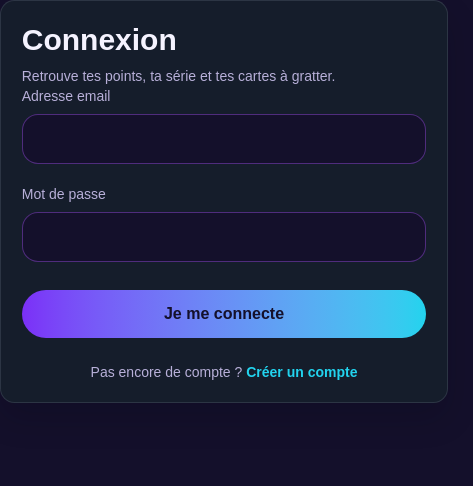
Test case: mode connexion › affiche le message d'erreur du backend en cas d'échec
The image size is (473, 486).
Type "lyra@example.com" into the field labelled "Adresse email". click: coordinates (224, 139)
box: [22,114,426,164]
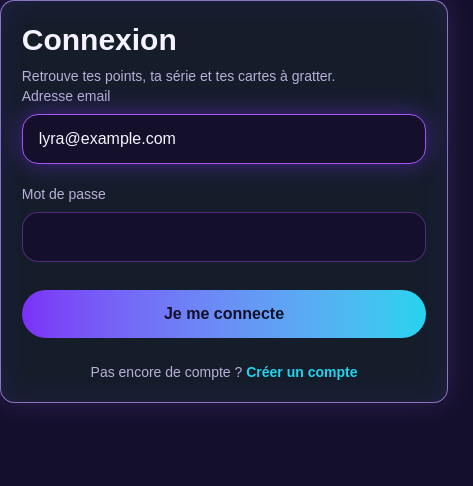
Type "mauvais" into the password field labelled "Mot de passe". click: coordinates (224, 237)
box: [22,212,426,262]
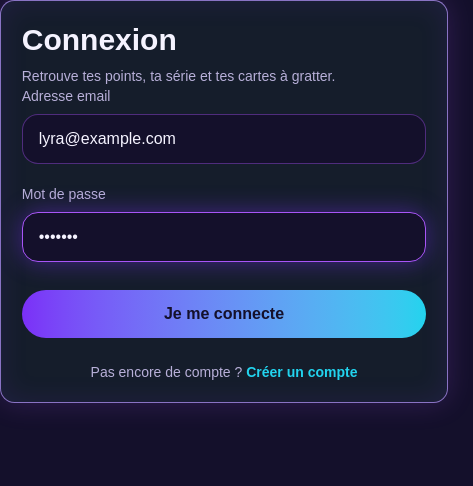
Click the button "Je me connecte". click: coordinates (224, 314)
box: [22,290,426,338]
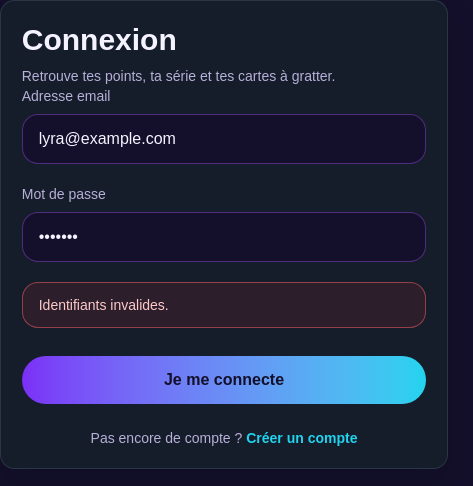
Result: the message reads "Identifiants invalides." at [39,297,169,313]
